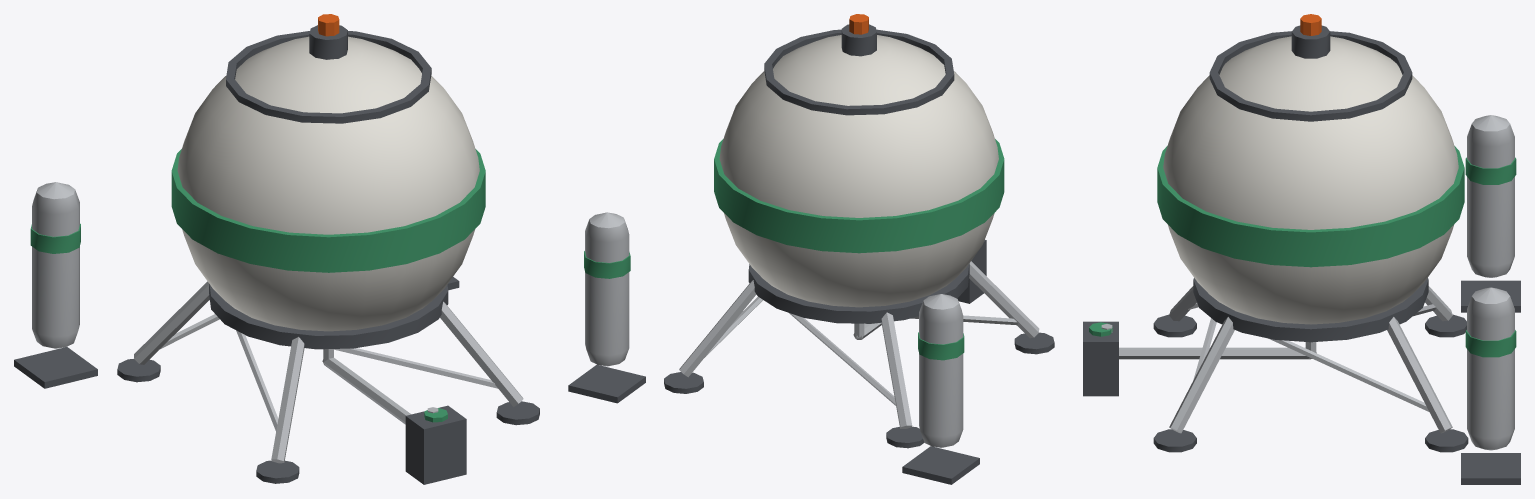
File: oxygen_tank.glb
3 renders of one model, left to right at view 1: azimuth 30°, elevation 25°; view 2: azimuth 150°, elevation 25°; view 3: azimuth 270°, elevation 25°, orthographic. The views are drawn at different scales.
Parts seen in each view (by area): view 1: body; view 2: body; view 3: body.
Boxes of the visible parts, left/top/right/bottom form: body: left=14, top=14, right=539, bottom=484; body: left=568, top=14, right=1054, bottom=484; body: left=1083, top=14, right=1520, bottom=484.
Size of the model in its own units: 3.9 by 3.38 by 3.65.
